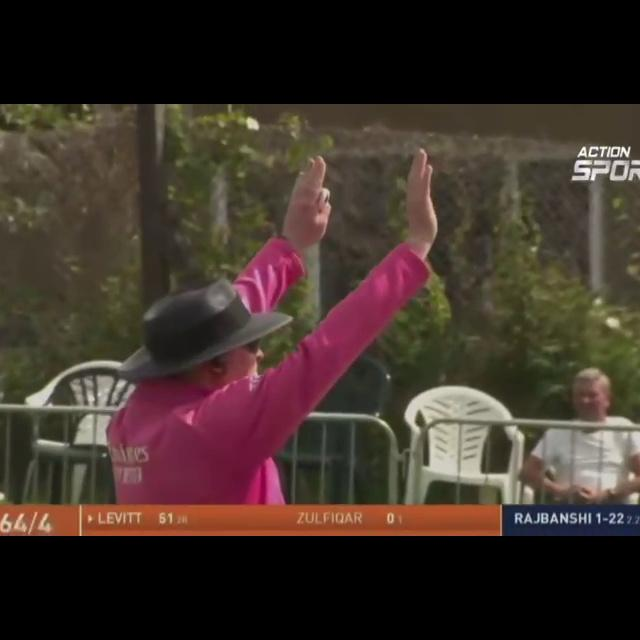umpire: (69, 136, 478, 504)
